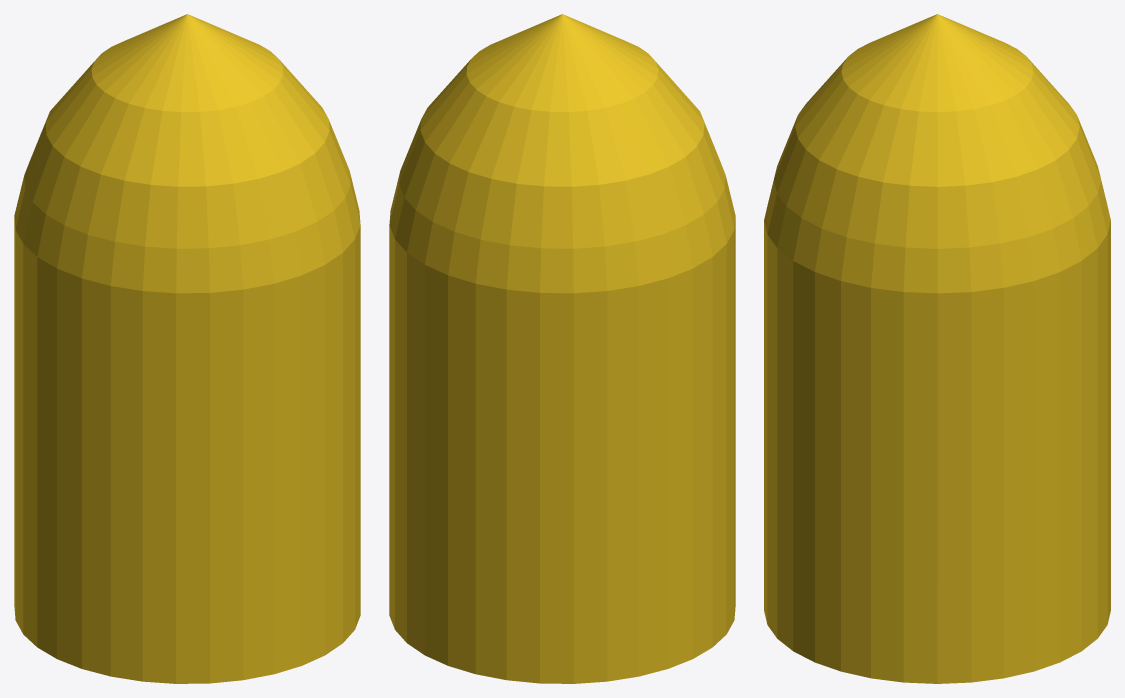
File: bullet.fbx
3 renders of one model, left to right at view 1: azimuth 30°, elevation 25°; view 2: azimuth 150°, elevation 25°; view 3: azimuth 270°, elevation 25°, orthographic.
Visible parts, largest first — view 1: Cylinder; view 2: Cylinder; view 3: Cylinder.
Part boxes in pixels (bbox=[...]): Cylinder: bbox=[14, 14, 360, 683]; Cylinder: bbox=[389, 14, 735, 683]; Cylinder: bbox=[764, 14, 1110, 683].
Bounding box in the file's own units: 200 × 380 × 200.
